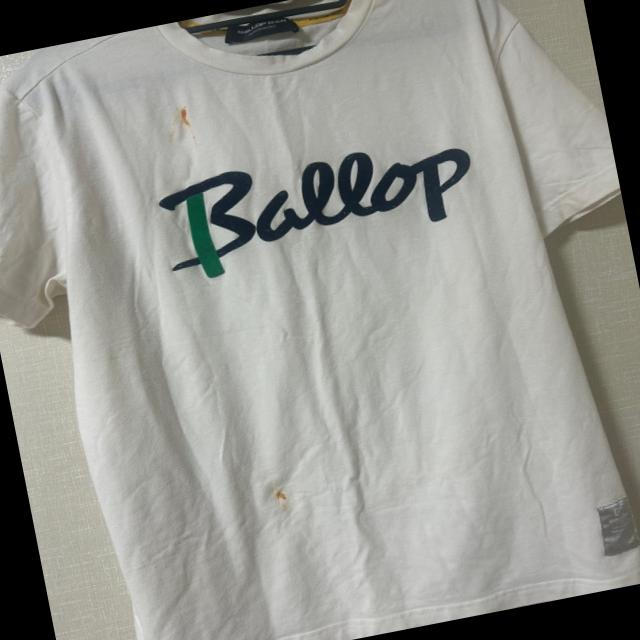stain: (166, 100, 215, 154), (270, 478, 292, 510)
